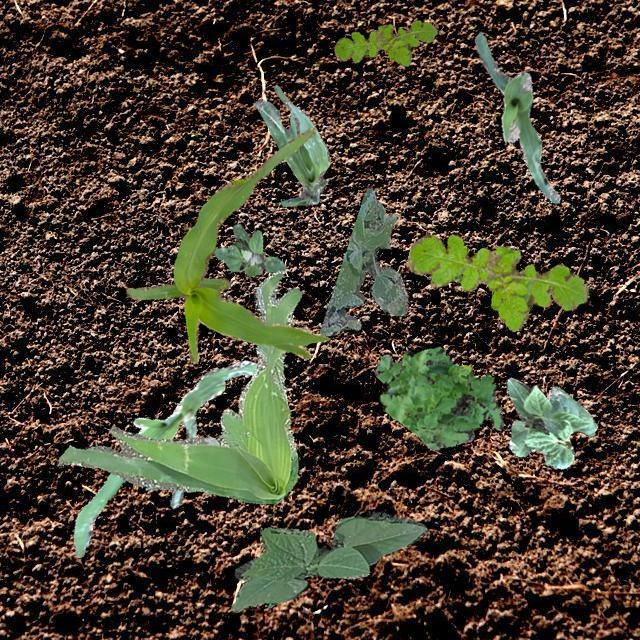crop: (125, 128, 328, 362), (72, 359, 256, 556), (229, 511, 426, 612), (474, 31, 558, 202), (253, 84, 329, 205), (506, 377, 596, 468)
weed: (57, 269, 300, 503), (406, 234, 588, 330), (373, 346, 502, 448), (318, 188, 408, 334), (332, 20, 437, 66), (212, 222, 286, 274)
